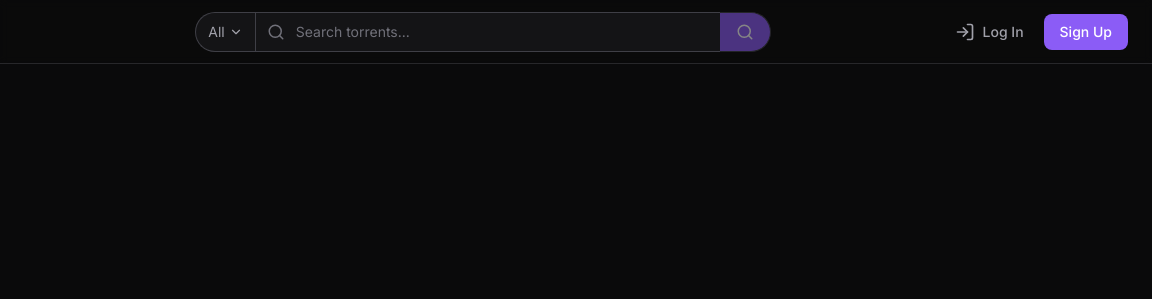
Test: Header Component › Category Dropdown › should close category dropdown when option selected
Click the button "All".
click(225, 32)  # box [195,12,255,52]
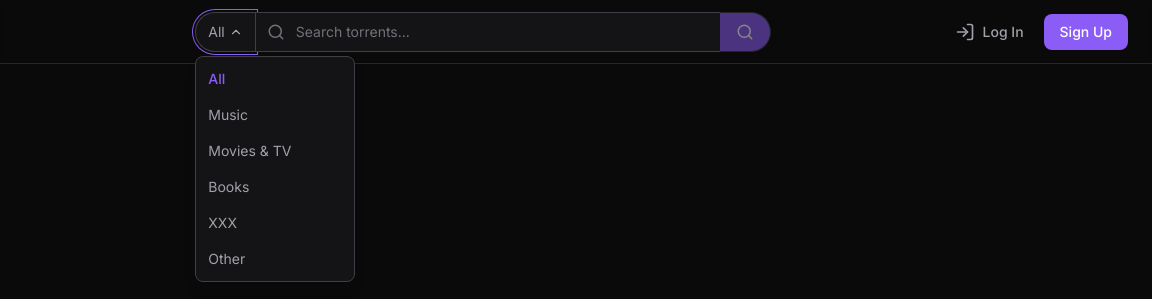
Click the button "Music".
click(275, 114)  # box [196,96,354,132]
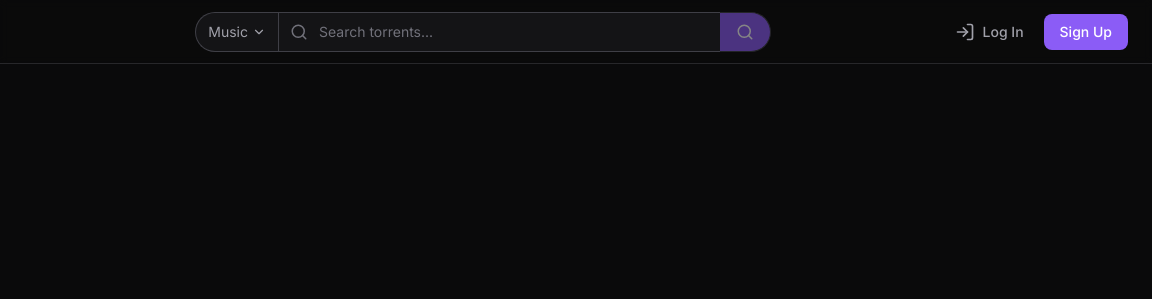
Expected: the button "Movies & TV" is gone
